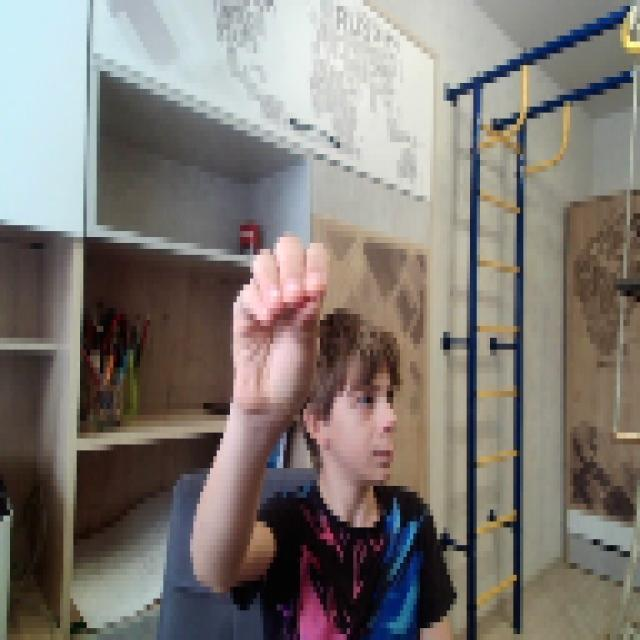left_click: (230, 225, 327, 415)
